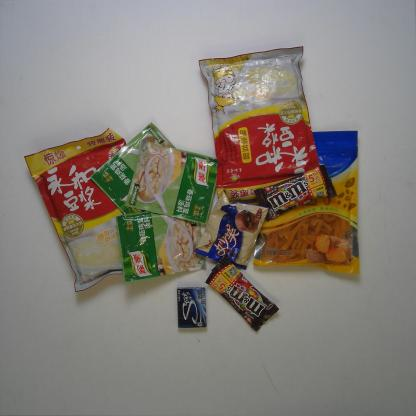Chocolate: (203, 255, 280, 333), (252, 164, 337, 223)
Dessert: (192, 190, 271, 270)
Dried Fruit: (253, 129, 361, 277)
Gum: (176, 286, 207, 329)
Instant Drink: (198, 45, 322, 204), (23, 126, 128, 296)
Seasoner: (88, 121, 177, 216), (125, 139, 219, 225), (116, 211, 207, 283)
